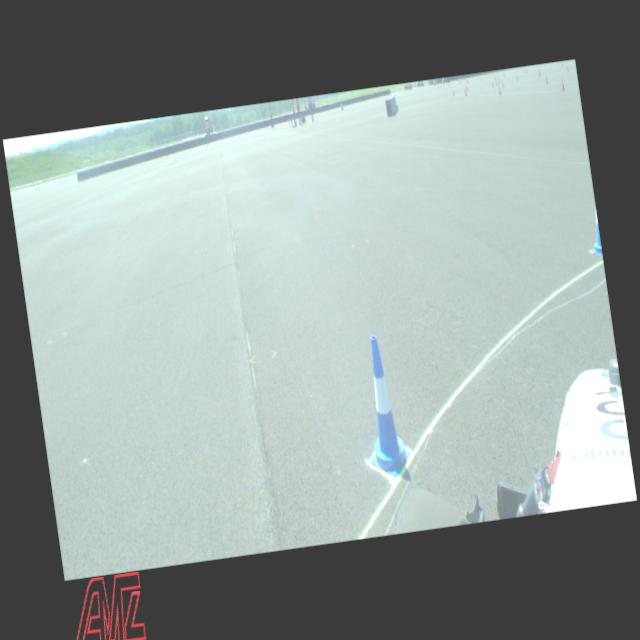blue_cone: (354, 333, 412, 479), (586, 204, 602, 256)
unknown_cone: (560, 78, 564, 91)
